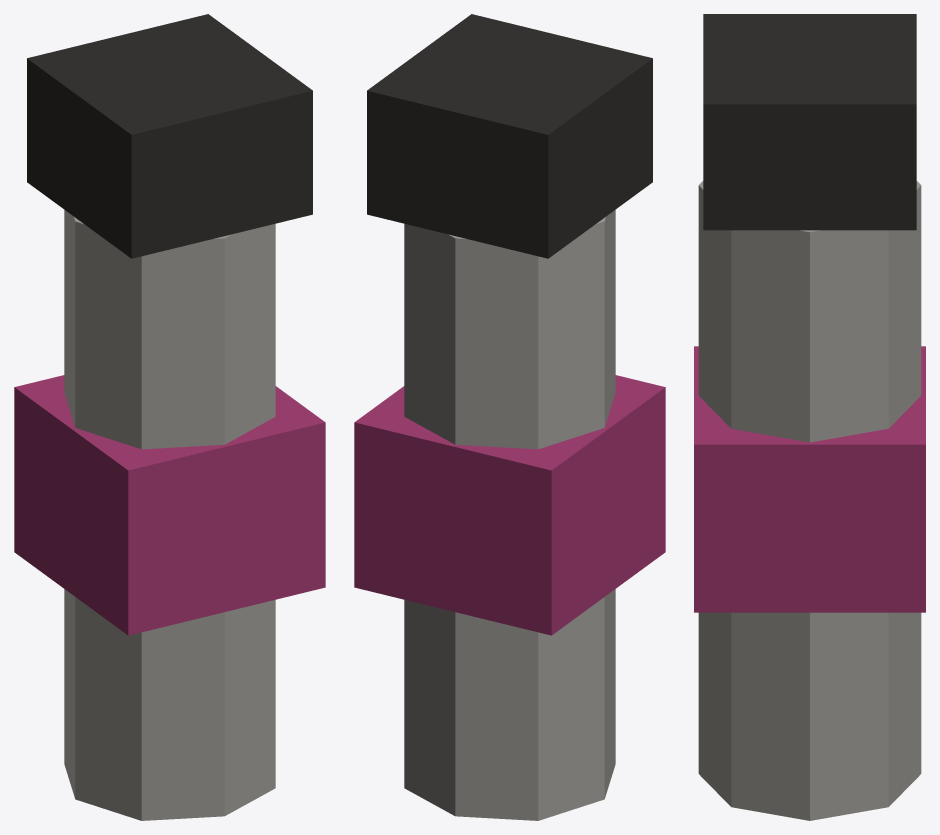
Rendered from deodorant-can.glb.
The picture shows the model from 3 angles, left to right: view 1: azimuth 30°, elevation 25°; view 2: azimuth 150°, elevation 25°; view 3: azimuth 270°, elevation 25°; orthographic projection.
Visible parts, largest first — view 1: brushed, accent-magenta, plastic-dark; view 2: brushed, accent-magenta, plastic-dark; view 3: brushed, plastic-dark, accent-magenta.
Boxes of the visible parts, box(x1,y1,x2,y2) form: brushed: box(64, 210, 275, 820); accent-magenta: box(14, 375, 325, 635); plastic-dark: box(27, 14, 312, 258); brushed: box(404, 210, 615, 820); accent-magenta: box(354, 375, 665, 635); plastic-dark: box(367, 14, 652, 258); brushed: box(698, 181, 921, 820); plastic-dark: box(703, 14, 916, 230); accent-magenta: box(694, 346, 925, 612).
Bounding box in the file's own units: 0.05 × 0.17 × 0.05.
